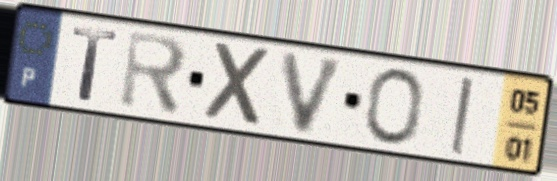I: (447, 73, 476, 159)
O: (363, 65, 426, 149)
R: (117, 27, 192, 120)
T: (69, 23, 122, 104)
V: (279, 49, 351, 139)
X: (202, 38, 277, 131)
